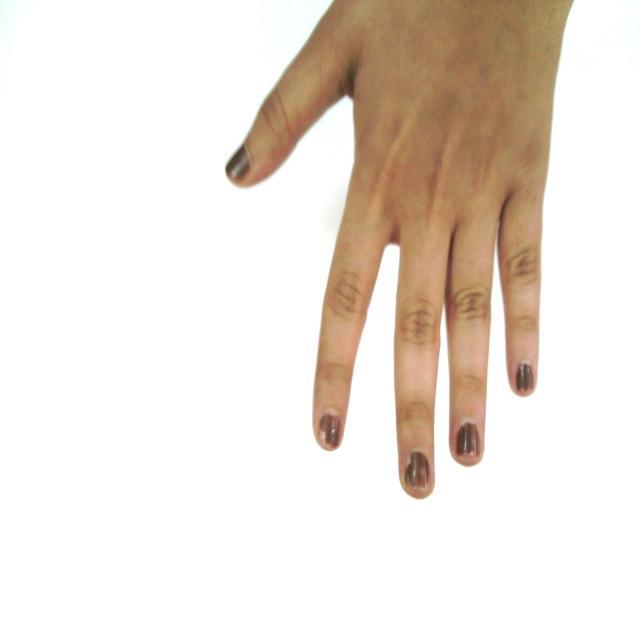Fingernail: (405, 452, 429, 491), (227, 147, 250, 180), (320, 412, 340, 448), (457, 423, 478, 455), (517, 364, 532, 392)
